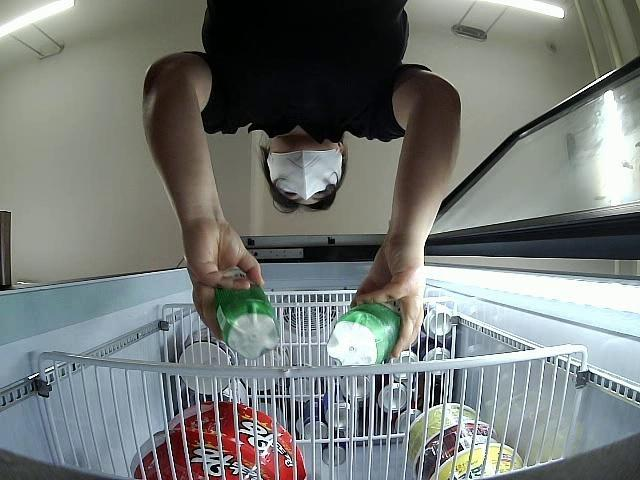18_trevi: (212, 276, 284, 360), (328, 300, 402, 364)
